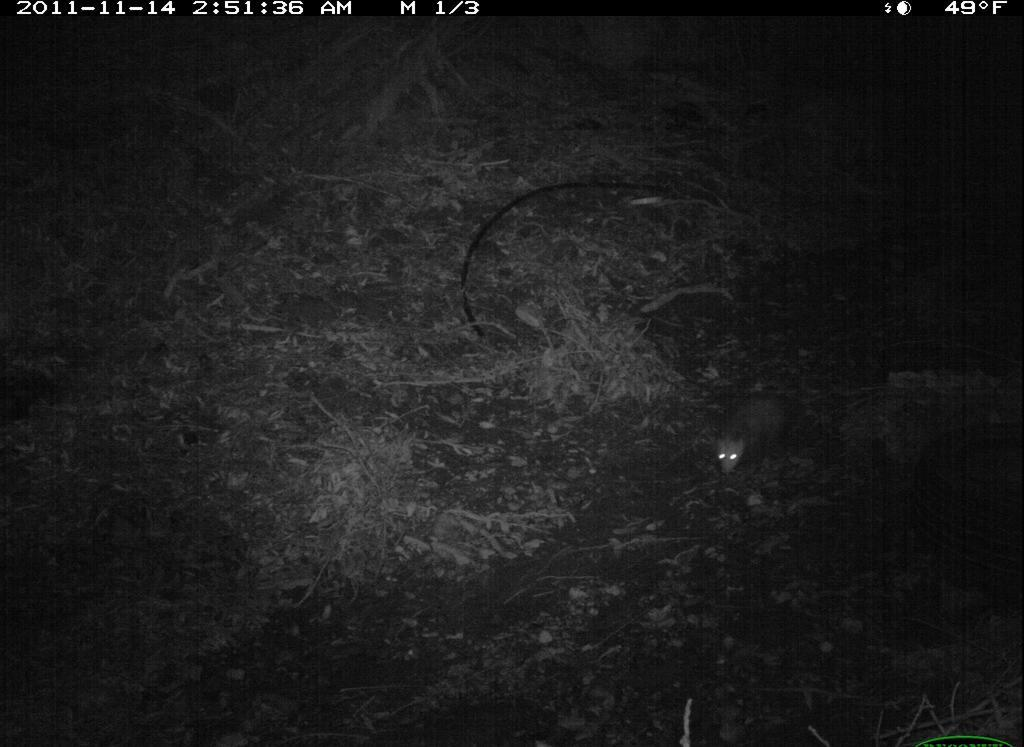opossum: (698, 356, 806, 489)
